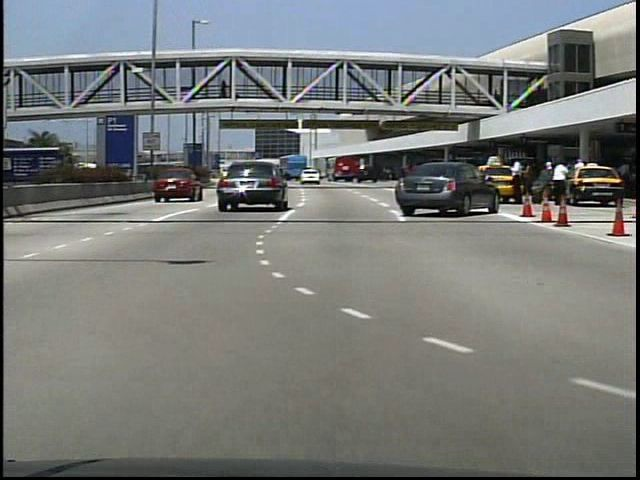person: (547, 158, 571, 208), (507, 158, 526, 208), (541, 159, 559, 204), (219, 81, 230, 104)
